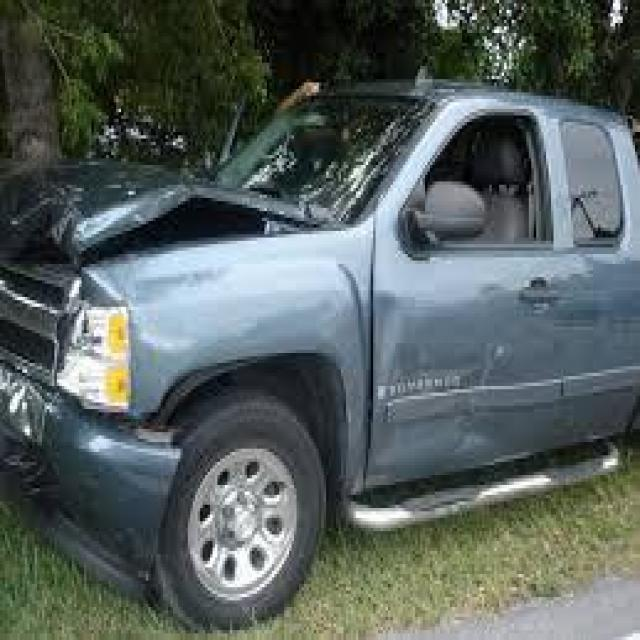damaged: (0, 174, 316, 290), (0, 390, 178, 528)
